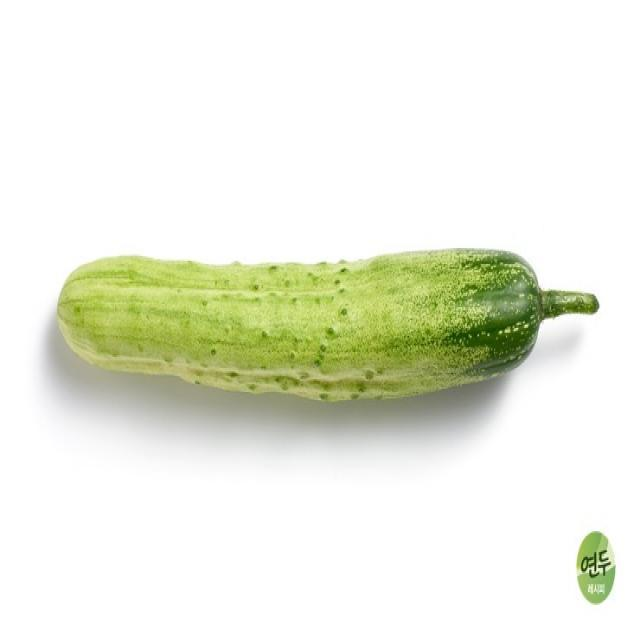cucumber: (52, 222, 614, 426)
